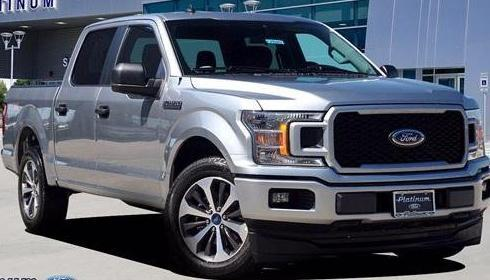Trucks: (1, 12, 490, 279)
